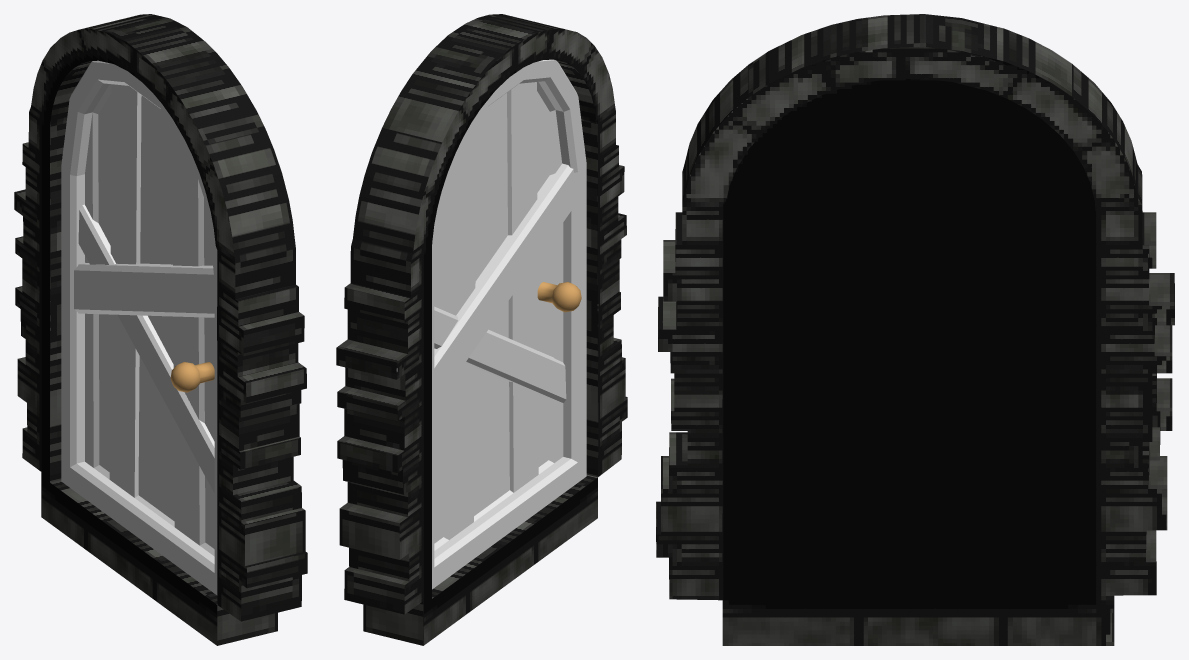
The model's file is Door.fbx.
3 views of the same model, side by side, from view 1: azimuth 30°, elevation 25°; view 2: azimuth 150°, elevation 25°; view 3: azimuth 270°, elevation 25° (orthographic). The views are drawn at different scales.
Visible parts, largest first — view 1: Wall.009, Cube.006; view 2: Wall.009, Cube.006; view 3: Wall.009.
Boxes of the visible parts, bbox=[...] form: Wall.009: bbox=[14, 14, 307, 645]; Cube.006: bbox=[61, 60, 217, 595]; Wall.009: bbox=[336, 14, 627, 645]; Cube.006: bbox=[396, 59, 586, 589]; Wall.009: bbox=[656, 14, 1174, 645].
Bounding box in the file's own units: 179 × 1253 × 983.
